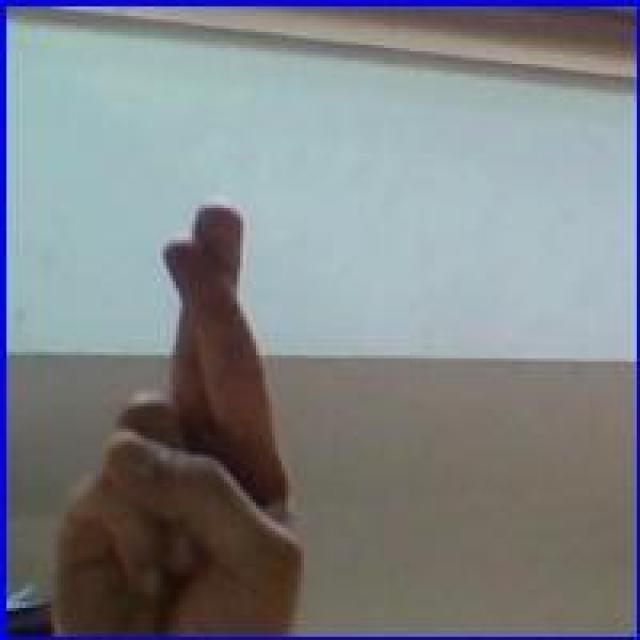R: (42, 200, 310, 626)
